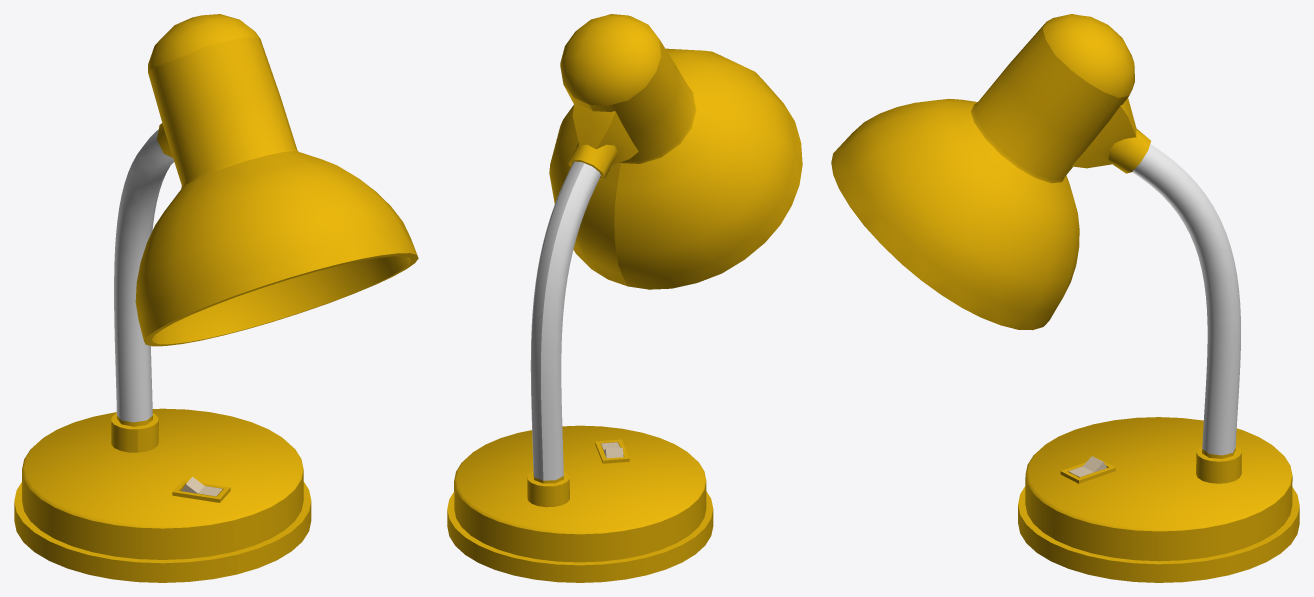
The model's file is lamp.fbx.
3 renders of one model, left to right at view 1: azimuth 30°, elevation 25°; view 2: azimuth 150°, elevation 25°; view 3: azimuth 270°, elevation 25°, orthographic. The views are drawn at different scales.
Parts seen in each view (by area): view 1: lamp; view 2: lamp; view 3: lamp.
Part boxes in pixels (x1,y1,x2,y2): lamp: [14, 14, 418, 582]; lamp: [447, 14, 802, 582]; lamp: [831, 14, 1299, 582].
Bounding box in the file's own units: 1735 × 3436 × 2882.
